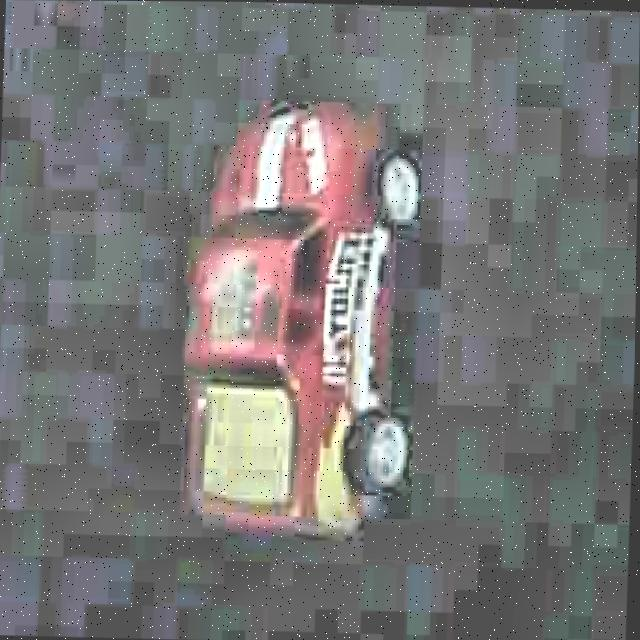car: (167, 94, 440, 544)
